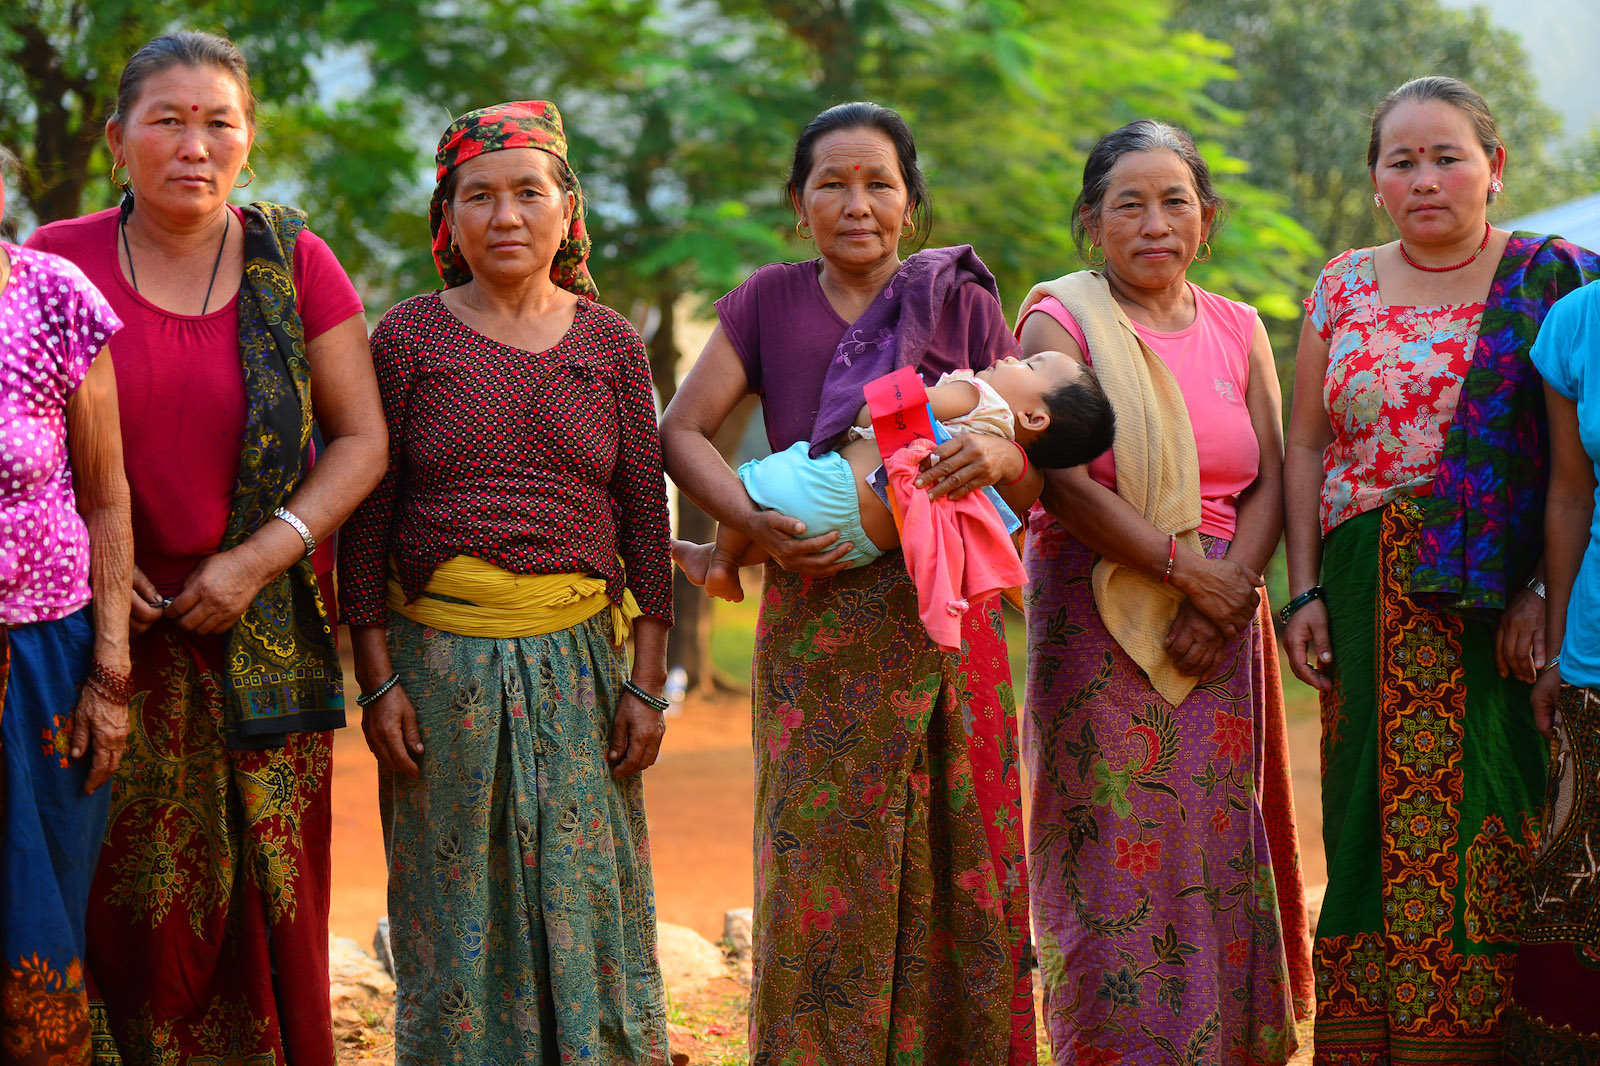human: (637, 88, 1070, 1066), (1, 23, 400, 1066), (333, 87, 686, 1066), (1275, 64, 1600, 1066), (982, 93, 1301, 1066), (654, 345, 1121, 635)
